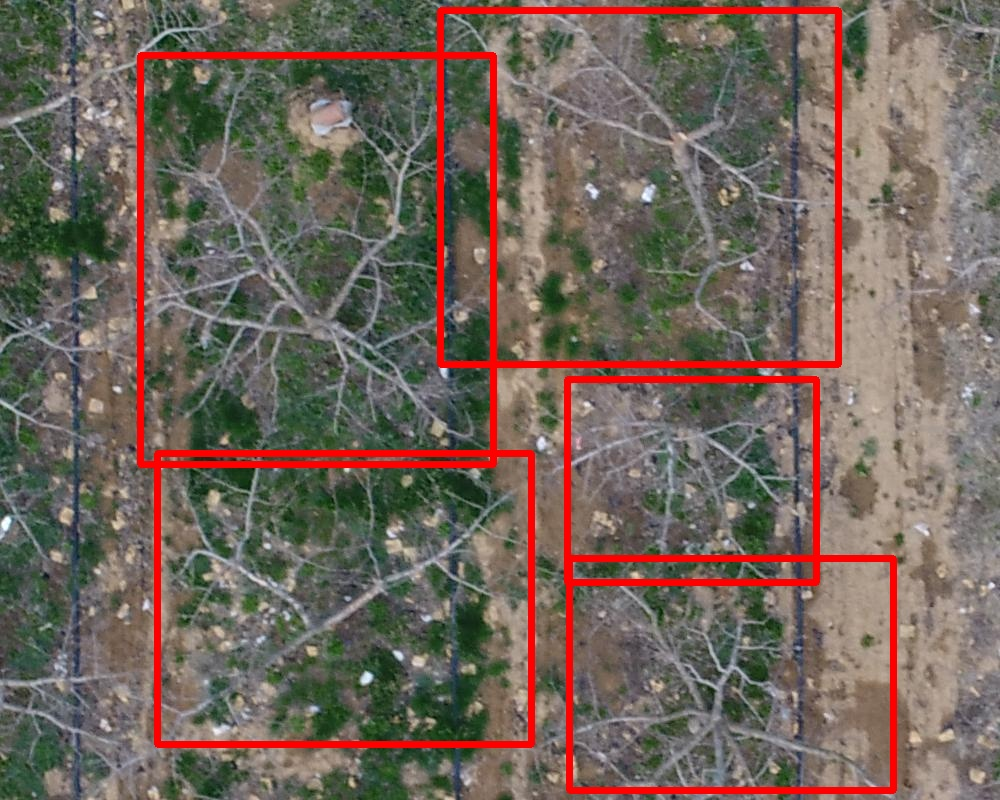apple: (140, 55, 493, 464), (440, 10, 838, 364), (157, 453, 531, 744), (569, 558, 893, 790), (567, 379, 816, 582)
